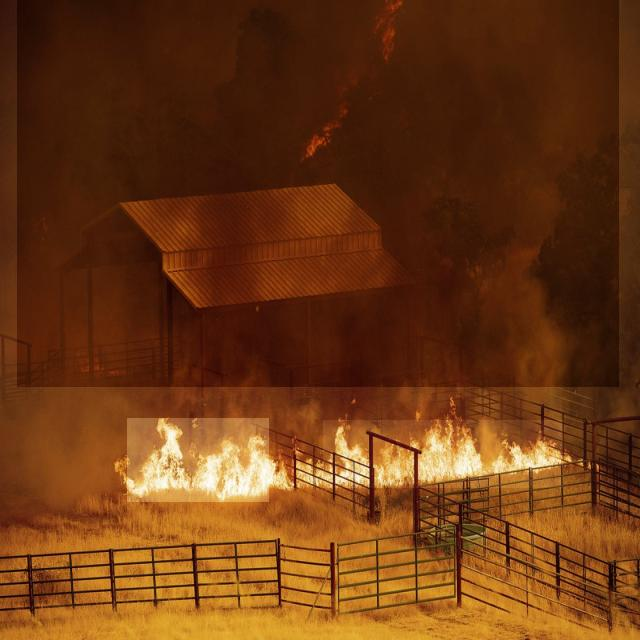Fire: (323, 420, 563, 488), (128, 418, 270, 502), (303, 107, 346, 158), (370, 4, 398, 63)
Smoke: (17, 0, 619, 387), (8, 395, 120, 528)
